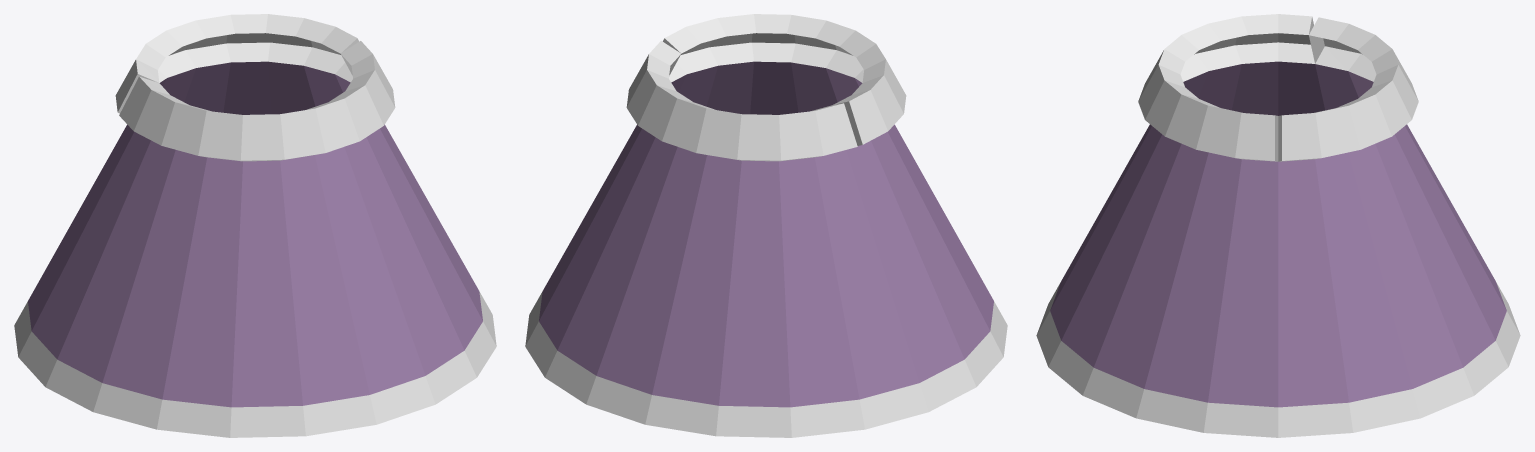
File: SnowglobeStandFBX.fbx
The picture shows the model from 3 angles, left to right: view 1: azimuth 30°, elevation 25°; view 2: azimuth 150°, elevation 25°; view 3: azimuth 270°, elevation 25°; orthographic projection.
Parts seen in each view (by area): view 1: Stand; view 2: Stand; view 3: Stand.
Part boxes in pixels (x1=…): Stand: x1=14, y1=14, x2=496, y2=437; Stand: x1=525, y1=14, x2=1007, y2=437; Stand: x1=1036, y1=14, x2=1520, y2=437.
Bounding box in the file's own units: 2 × 1.24 × 2.
